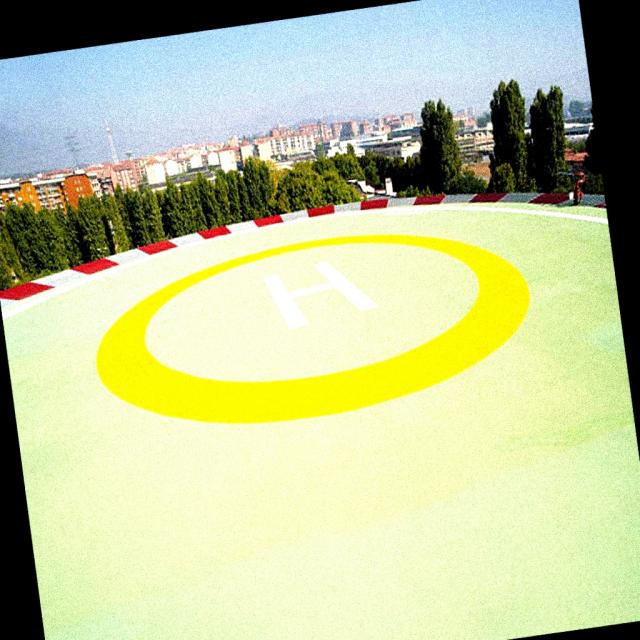helipad: (84, 230, 536, 428)
